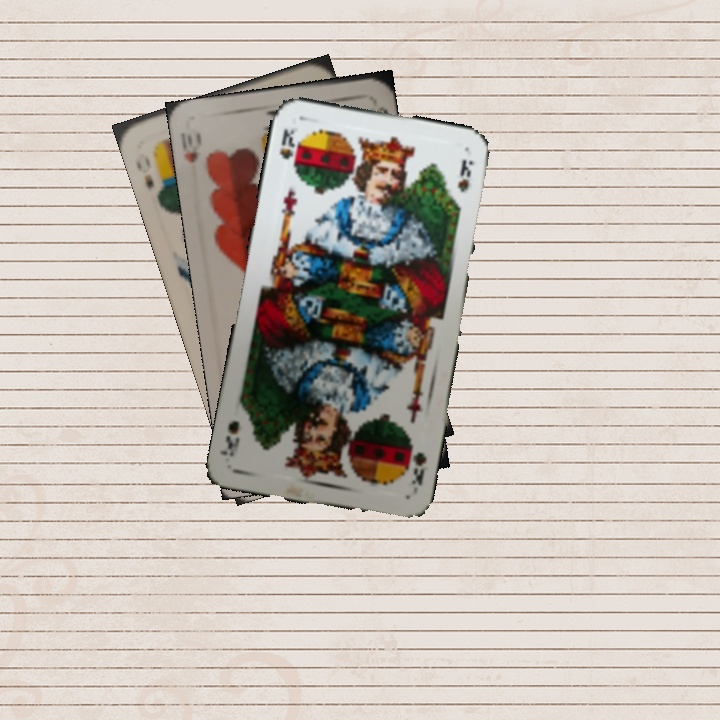EO: (131, 149, 157, 192)
H10: (177, 127, 204, 166)
SK: (407, 448, 430, 497), (275, 123, 300, 162)
